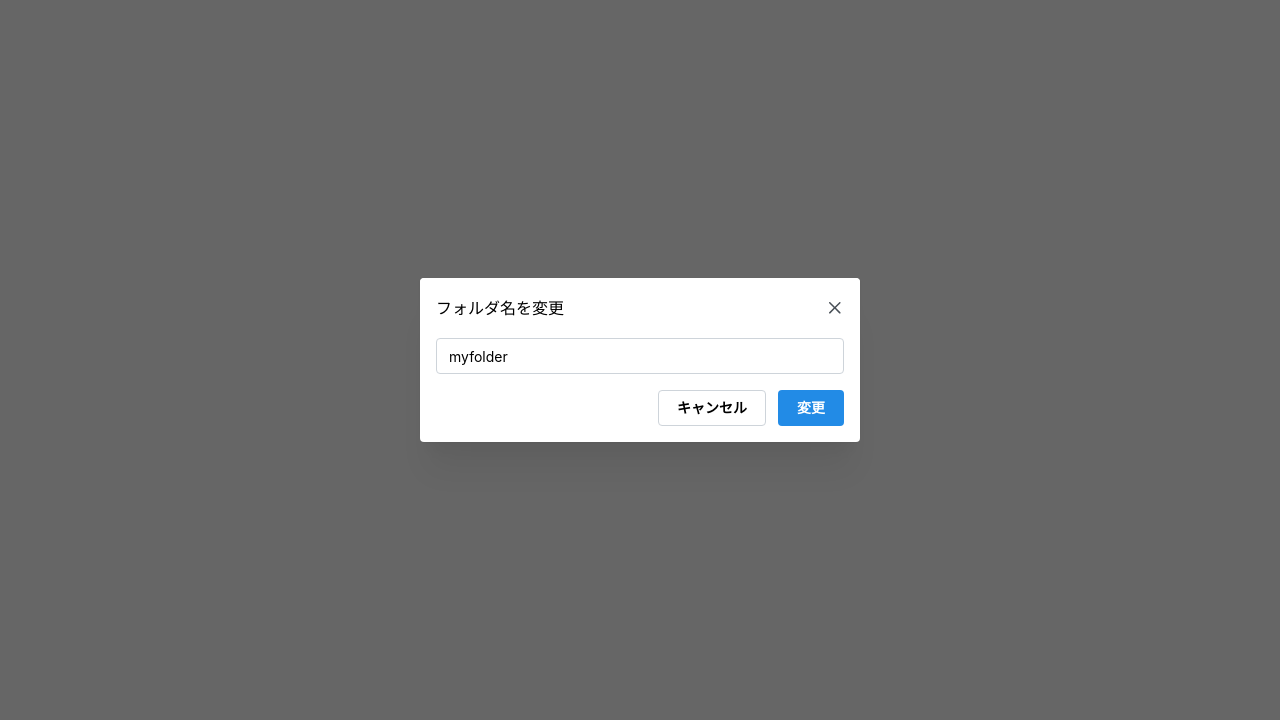
Test: RenameDialog › error handling from hook › should display partial failure details for folder rename
Replace the text in the field with "newfolder": {"x": 640, "y": 356} [436, 338, 844, 374]
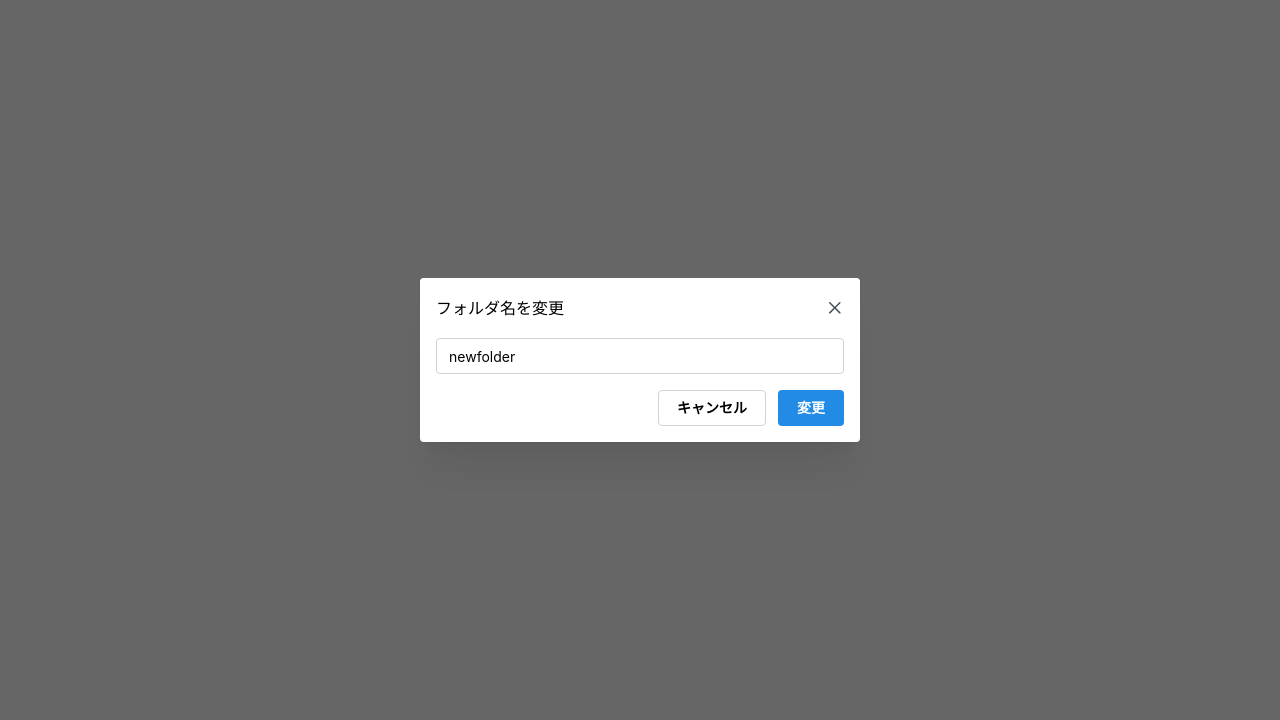
Click the button "変更": {"x": 811, "y": 408} [778, 390, 844, 426]
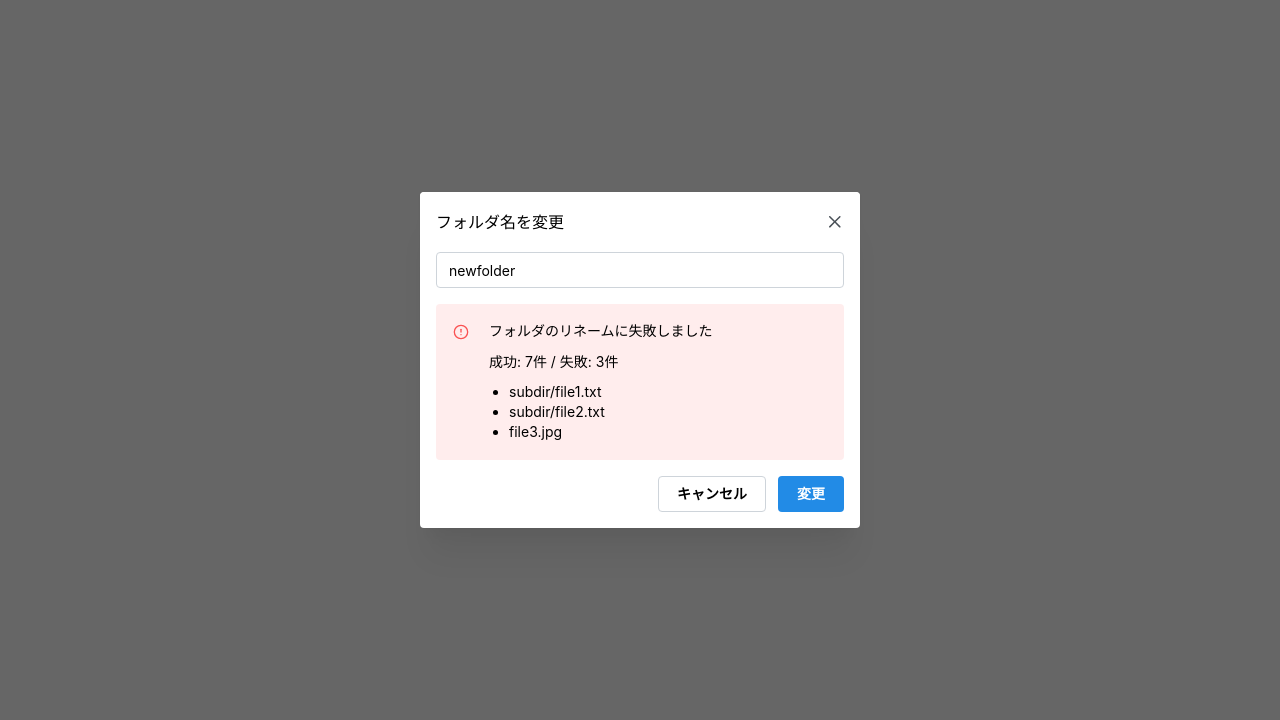
Result: the text "成功: 7件 / 失敗: 3件" is shown at [489, 352, 618, 370]
Result: the text "subdir/file1.txt" is shown at [509, 382, 602, 402]
Result: the text "subdir/file2.txt" is shown at [509, 402, 605, 422]
